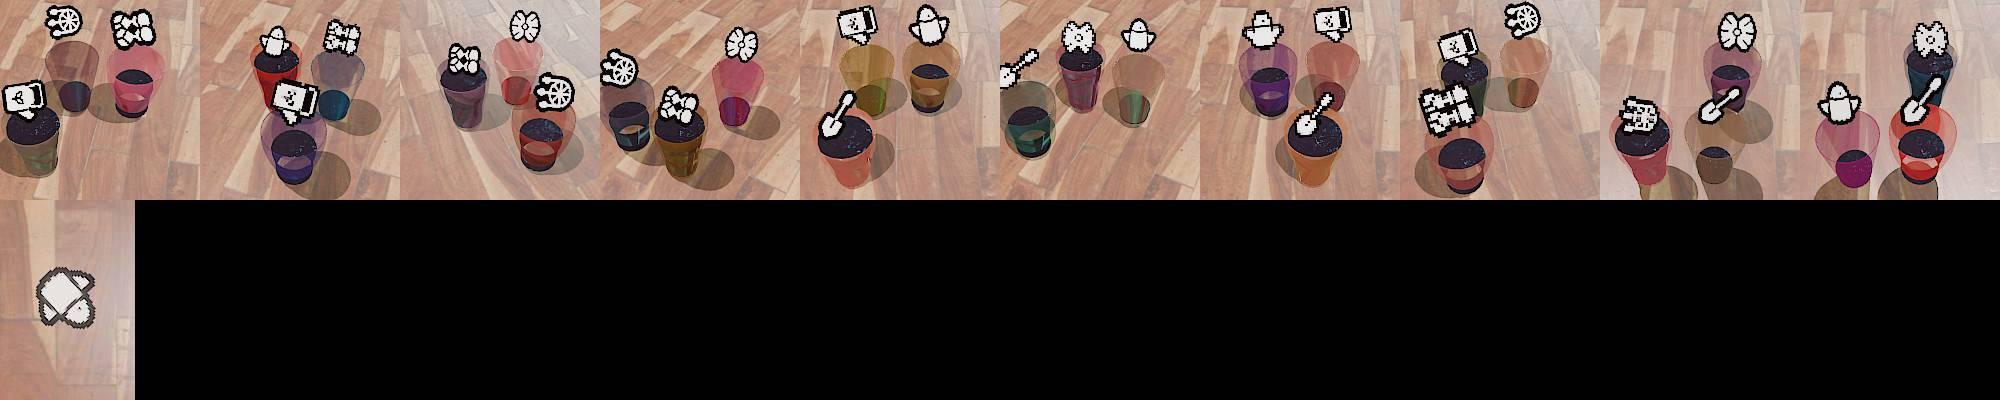icon: (33, 265, 97, 330), (1418, 83, 1476, 134), (1901, 75, 1944, 126), (270, 79, 320, 122), (1293, 89, 1335, 139), (1818, 80, 1862, 125), (656, 84, 702, 127), (818, 88, 856, 139), (1, 80, 47, 122), (999, 47, 1041, 92), (110, 9, 156, 50), (908, 4, 952, 46), (835, 5, 879, 46), (1716, 11, 1756, 54), (1436, 27, 1481, 65), (533, 70, 574, 111), (1242, 10, 1284, 50), (1699, 85, 1742, 124), (1619, 94, 1659, 134), (599, 47, 638, 89), (323, 19, 362, 59), (1312, 4, 1352, 43), (1504, 1, 1542, 39), (1913, 19, 1950, 59), (45, 5, 83, 41), (1060, 18, 1096, 55), (723, 25, 759, 62), (1121, 17, 1156, 52), (446, 43, 482, 76), (259, 23, 292, 57), (509, 9, 541, 43)
